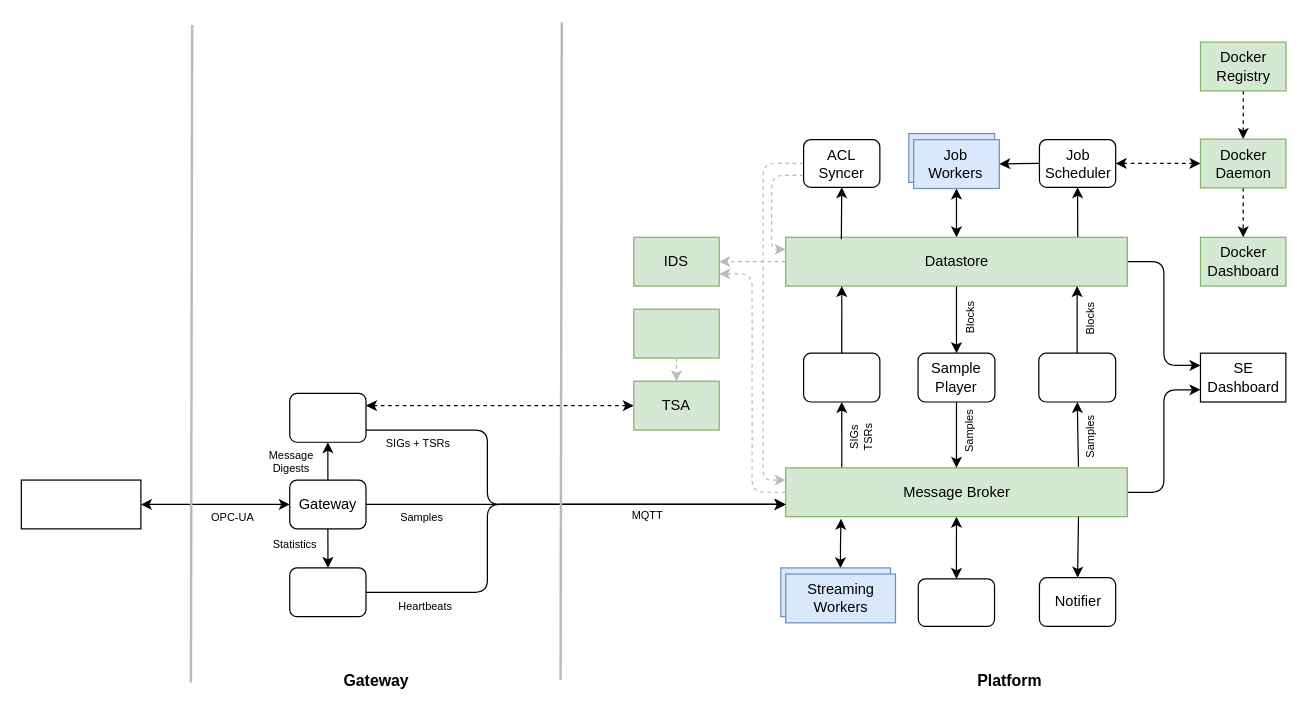
Image size: 1308x719. Some labels were removed from this diagram. Each missing label, with the centre of its shape:
"Alerter" goes at (x=956, y=602).
"CA" goes at (x=676, y=333).
"Heartbeat Sender" goes at (x=327, y=592).
"Measurement Device" goes at (x=80, y=504).
"Sample Recorder" goes at (x=1077, y=377).
"Signature Recorder" goes at (x=841, y=377).
"Signature Sender" goes at (x=327, y=417).
